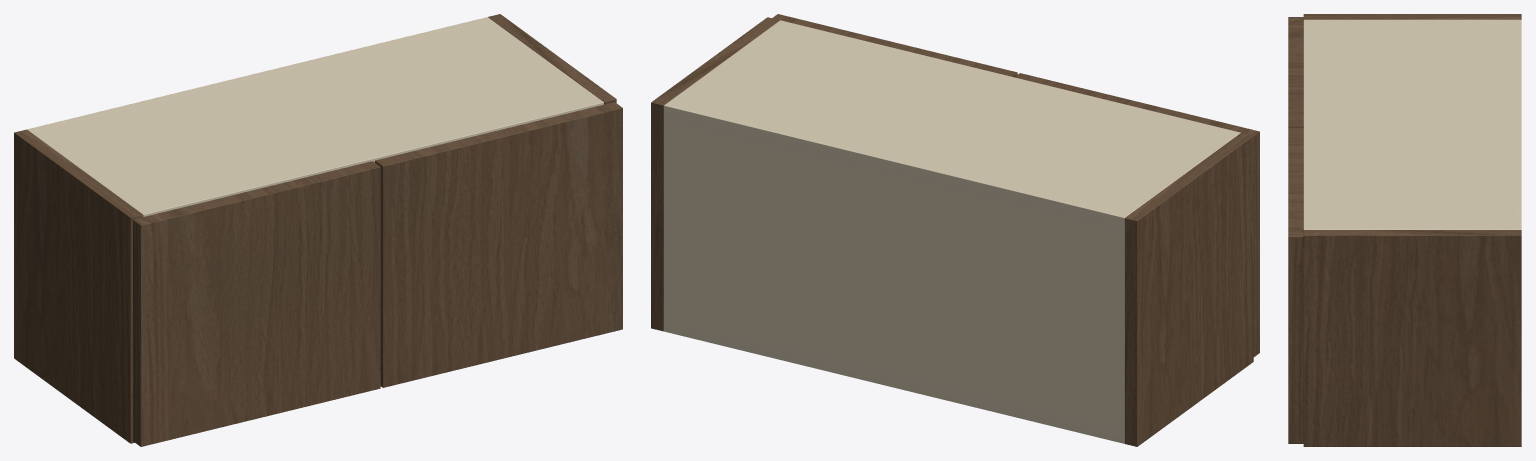
File: oppein-ply-mso-w2712.glb
3 views of the same model, side by side, from view 1: azimuth 30°, elevation 25°; view 2: azimuth 150°, elevation 25°; view 3: azimuth 270°, elevation 25° (orthographic). The views are drawn at different scales.
Visible parts, largest first — view 1: Door, Door.001, Cabinet top, Cabinet side, Cabinet back, Cabinet side.001; view 2: Cabinet back, Cabinet top, Cabinet side, Cabinet bottom, Cabinet side.001, Door, Door.001; view 3: Cabinet side.001, Cabinet top, Door.001, Cabinet back, Door, Cabinet side.
Boxes of the visible parts, bbox=[...] form: Door: bbox=[133, 161, 380, 446]; Door.001: bbox=[375, 102, 622, 387]; Cabinet top: bbox=[30, 17, 603, 216]; Cabinet side: bbox=[14, 129, 142, 443]; Cabinet back: bbox=[27, 17, 491, 132]; Cabinet side.001: bbox=[488, 14, 616, 104]; Cabinet back: bbox=[664, 102, 1128, 443]; Cabinet top: bbox=[664, 20, 1240, 230]; Cabinet side: bbox=[1124, 133, 1253, 446]; Cabinet bottom: bbox=[664, 320, 1124, 442]; Cabinet side.001: bbox=[651, 17, 779, 331]; Door: bbox=[1014, 73, 1259, 356]; Door.001: bbox=[772, 14, 1017, 77]; Cabinet side.001: bbox=[1303, 230, 1521, 446]; Cabinet top: bbox=[1303, 19, 1521, 229]; Door.001: bbox=[1288, 127, 1303, 443]; Cabinet back: bbox=[1513, 19, 1521, 229]; Door: bbox=[1288, 17, 1303, 127]; Cabinet side: bbox=[1303, 14, 1521, 19].
Bounding box in the file's own units: 0.6858 × 0.3048 × 0.3048.
2 materials, 1 textured.
